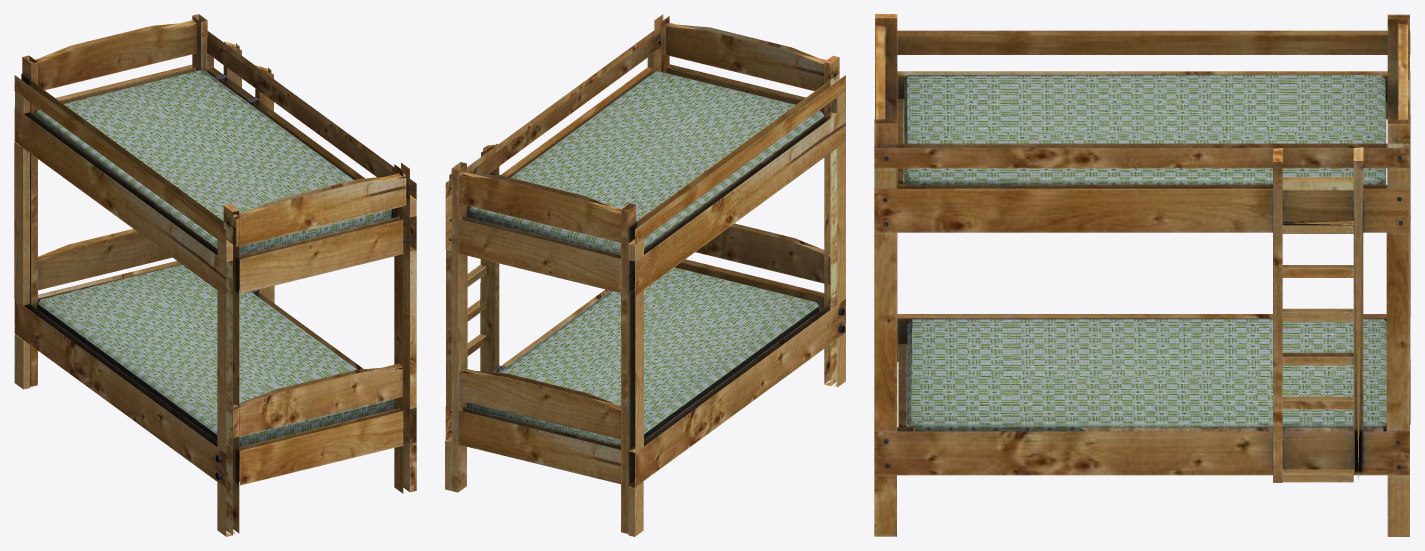
The model's file is bed-21.glb.
3 views of the same model, side by side, from view 1: azimuth 30°, elevation 25°; view 2: azimuth 150°, elevation 25°; view 3: azimuth 270°, elevation 25° (orthographic). The views are drawn at different scales.
Visible parts, largest first — view 1: Object_2, Object_5; view 2: Object_2, Object_5; view 3: Object_2, Object_5.
Boxes of the visible parts, x1=… form: Object_2: x1=14, y1=14, x2=416, y2=536; Object_5: x1=35, y1=70, x2=394, y2=447; Object_2: x1=445, y1=14, x2=845, y2=536; Object_5: x1=466, y1=71, x2=823, y2=445; Object_2: x1=874, y1=14, x2=1410, y2=536; Object_5: x1=904, y1=74, x2=1386, y2=431.
Bounding box in the file's own units: 6.61 × 9.81 × 11.6.
Materials: 4 (4 with a texture image).
